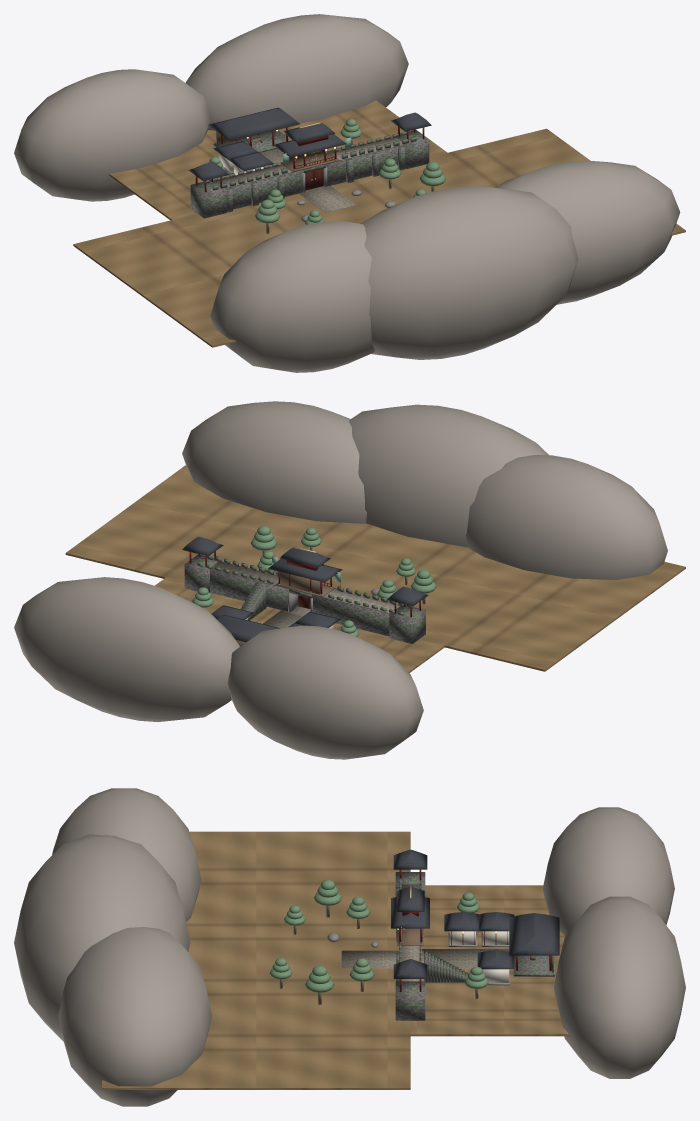
Rendered from zhuge_xicheng_hq.glb.
3 renders of one model, top to bottom at view 1: azimuth 30°, elevation 25°; view 2: azimuth 150°, elevation 25°; view 3: azimuth 270°, elevation 25°, orthographic. The views are drawn at different scales.
Visible parts, largest first — view 1: Static_FarHill, Static_DustGround, Static_StoneWall, Static_RoofTile, Static_CobbleRoad, Static_PineLeaf, Static_WoodDark, Static_WoodRed; view 2: Static_FarHill, Static_DustGround, Static_StoneWall, Static_RoofTile, Static_PineLeaf, Static_CobbleRoad, Static_WoodDark; view 3: Static_FarHill, Static_DustGround, Static_RoofTile, Static_StoneWall, Static_PineLeaf, Static_CobbleRoad, Static_WallPlaster, Static_WoodDark.
Part boxes in pixels (left/top/right/bottom): Static_FarHill: left=14, top=14, right=680, bottom=372; Static_DustGround: left=73, top=100, right=685, bottom=347; Static_StoneWall: left=190, top=130, right=429, bottom=218; Static_RoofTile: left=188, top=107, right=431, bottom=181; Static_CobbleRoad: left=216, top=137, right=404, bottom=212; Static_PineLeaf: left=208, top=118, right=445, bottom=224; Static_WoodDark: left=216, top=131, right=339, bottom=172; Static_WoodRed: left=195, top=126, right=424, bottom=192; Static_FarHill: left=14, top=401, right=667, bottom=759; Static_DustGround: left=65, top=465, right=685, bottom=672; Static_StoneWall: left=184, top=554, right=425, bottom=643; Static_RoofTile: left=182, top=536, right=428, bottom=642; Static_PineLeaf: left=192, top=526, right=436, bottom=636; Static_CobbleRoad: left=209, top=561, right=399, bottom=628; Static_WoodDark: left=236, top=571, right=335, bottom=646; Static_FarHill: left=14, top=788, right=685, bottom=1106; Static_DustGround: left=102, top=831, right=569, bottom=1089; Static_RoofTile: left=391, top=849, right=559, bottom=978; Static_StoneWall: left=395, top=872, right=555, bottom=1020; Static_PineLeaf: left=269, top=879, right=488, bottom=992; Static_CobbleRoad: left=341, top=884, right=513, bottom=981; Static_WallPlaster: left=449, top=931, right=509, bottom=982; Static_WoodDark: left=397, top=928, right=553, bottom=972.
Bounding box in the file's own units: 110 × 34 × 122.
17 materials, 6 textured.
